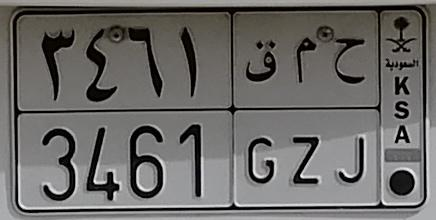1: (178, 24, 206, 201)
3: (40, 27, 80, 202)
4: (84, 26, 123, 203)
6: (127, 25, 167, 200)
G: (245, 39, 282, 185)
J: (333, 37, 368, 186)
Z: (290, 36, 321, 186)
